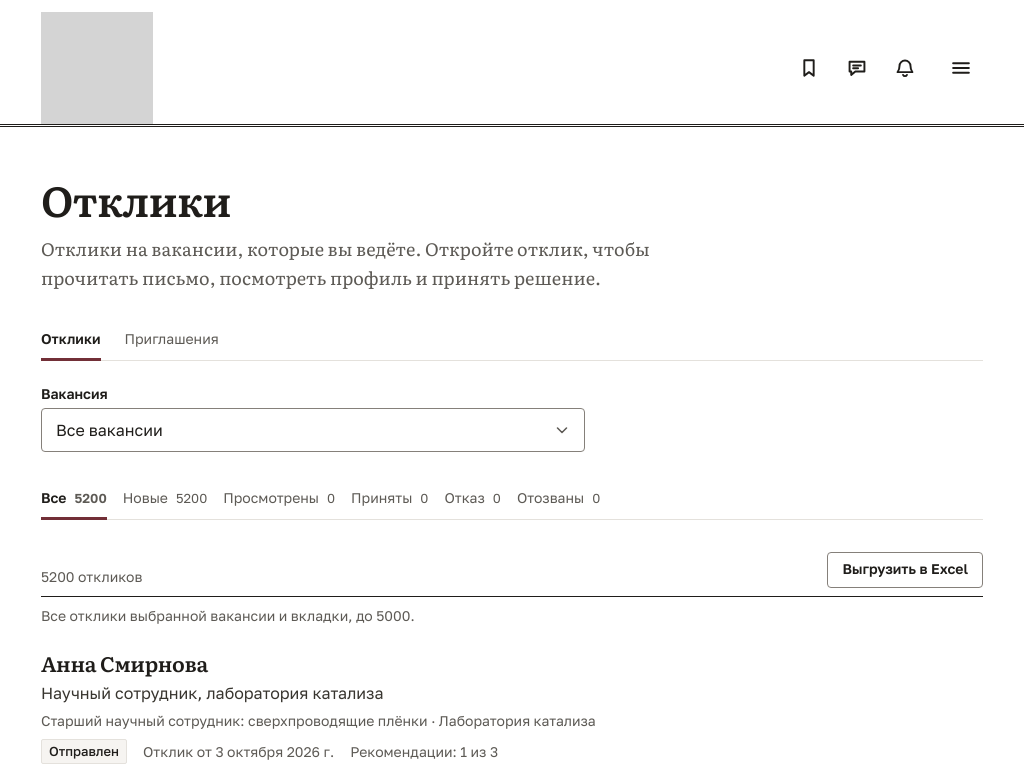
Test: candidates list › export to a file › says that only the first ones went into the file when there are more than the limit
This screenshot has width=1024, height=780.
Click the button "Выгрузить в Excel".
click(905, 570)  # box [828,552,983,588]
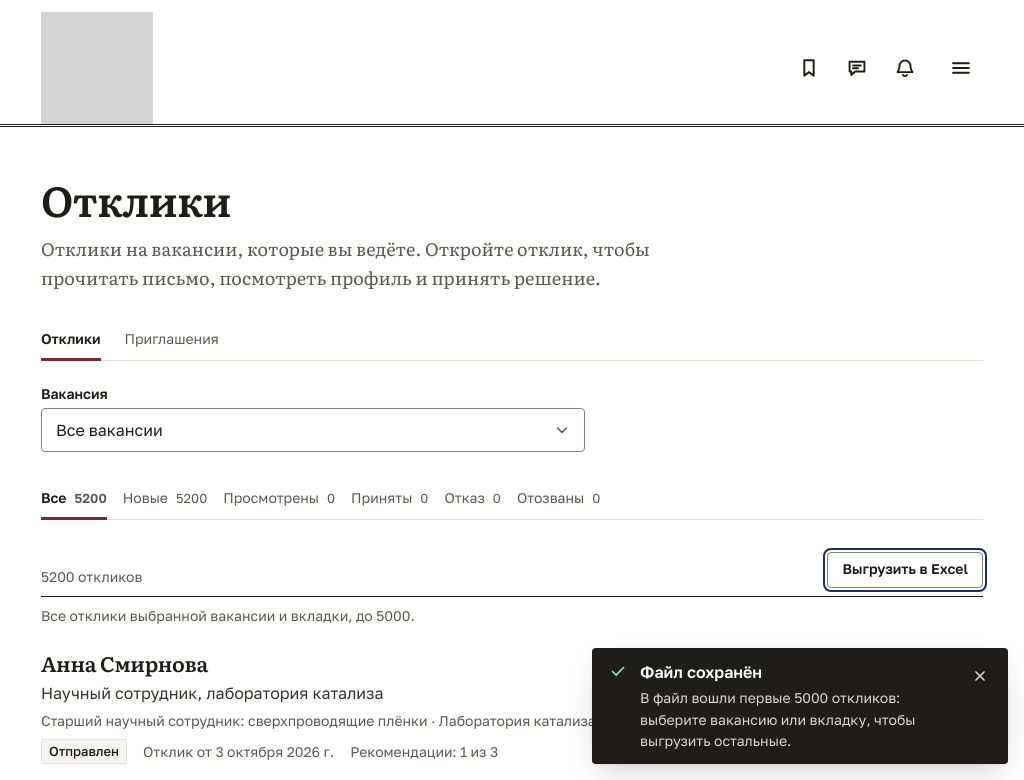
Expected: the text "В файл вошли первые 5000 откликов" is shown, [640,689,916,749]
